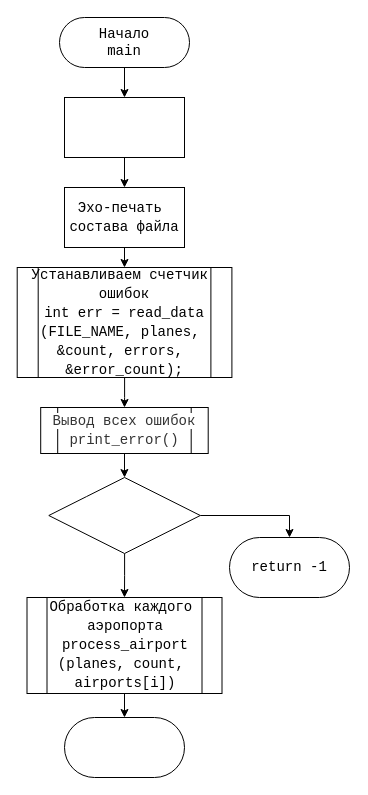
Some shapes in this 368 by 795 pixel diagram are drawn without their labels. Each missing label, with the box of its shape:
err != -1: (48, 476, 200, 554)
return 0: (64, 716, 184, 778)
Инициализация переменных: (64, 96, 184, 158)
